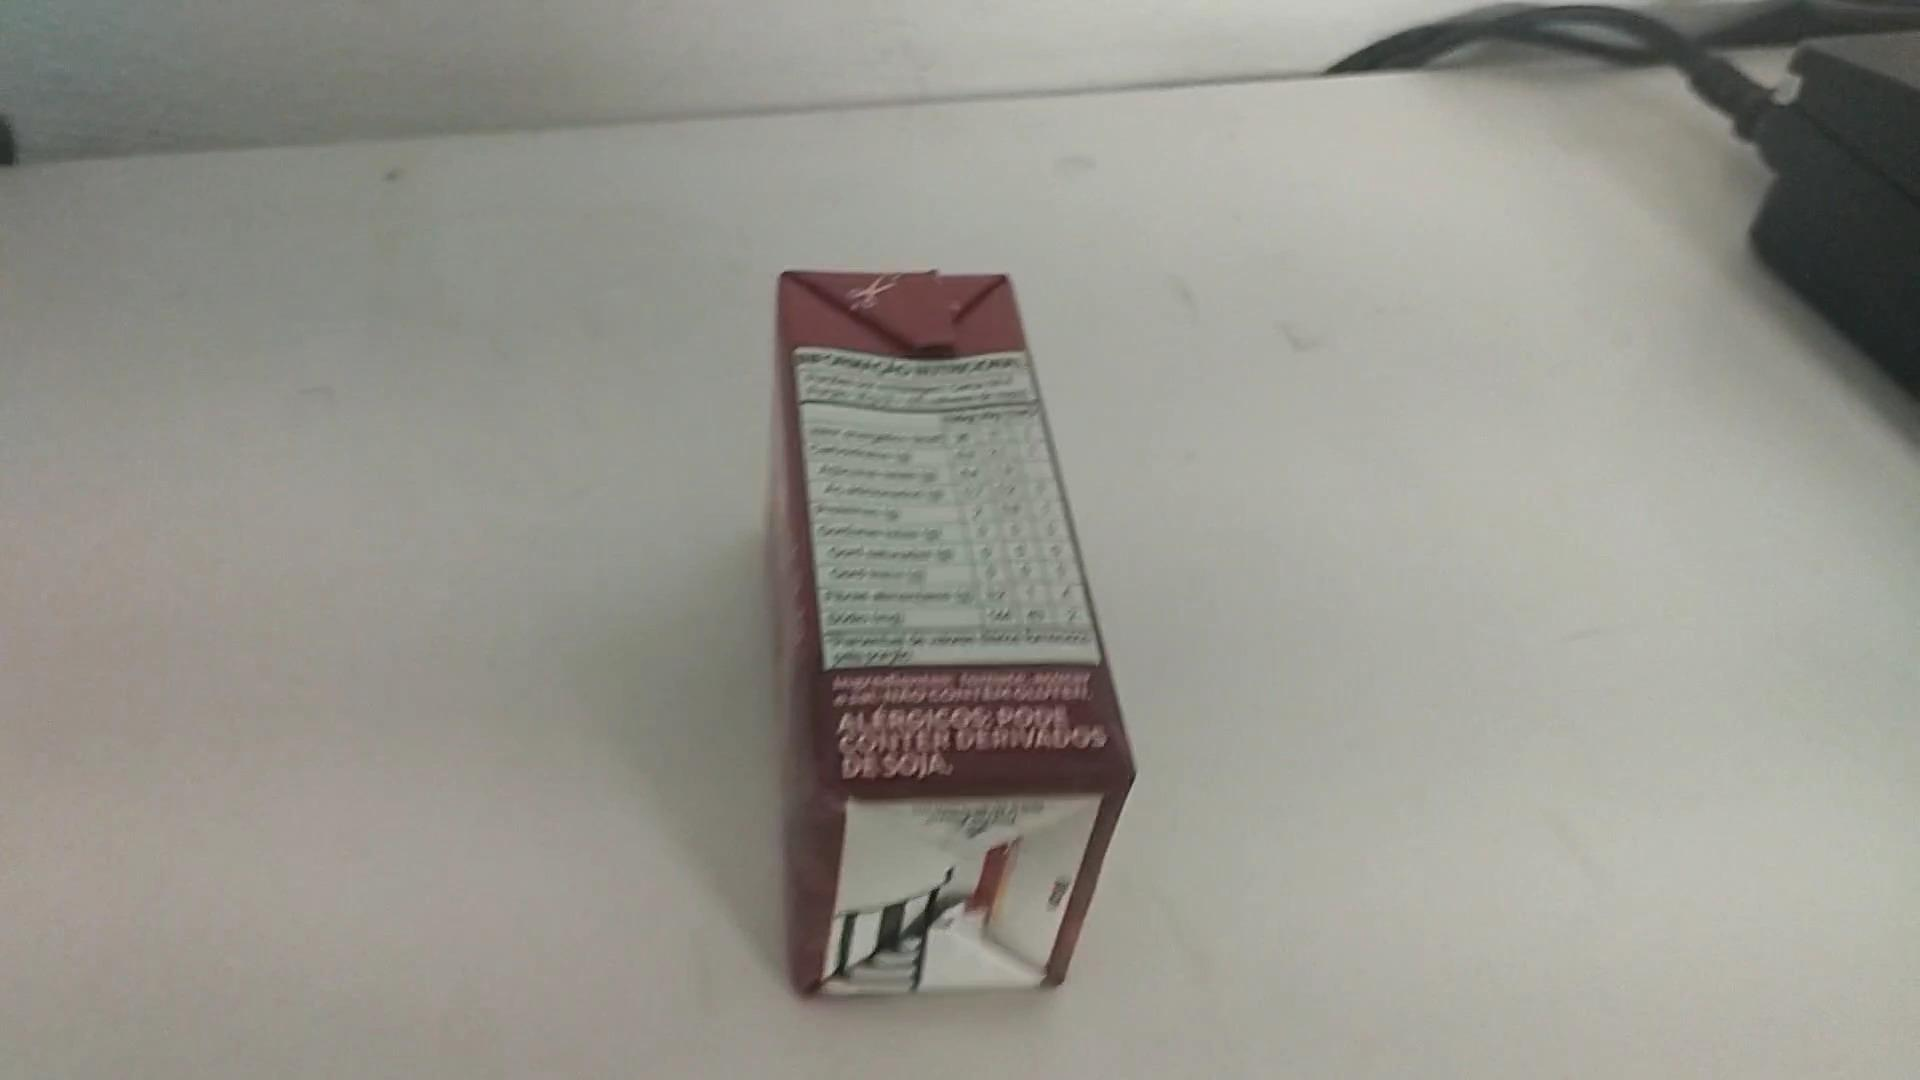tomate: (767, 270, 1134, 1007)
